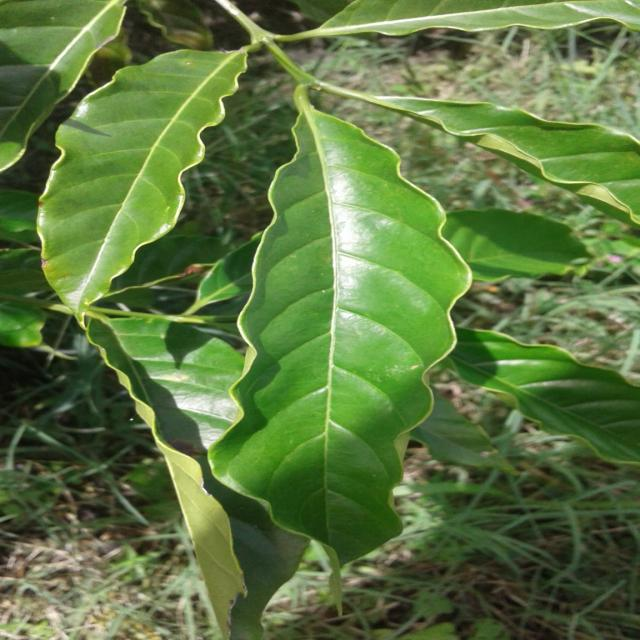Sanas: (205, 87, 473, 565)
